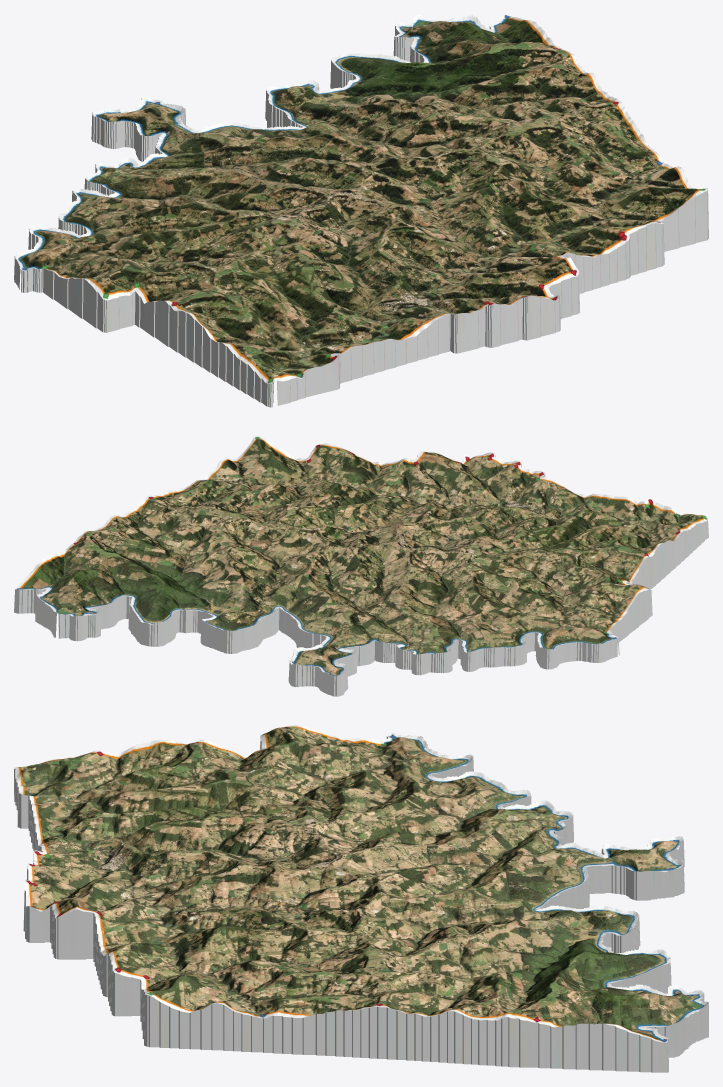
3 renders of one model, top to bottom at view 1: azimuth 30°, elevation 25°; view 2: azimuth 150°, elevation 25°; view 3: azimuth 270°, elevation 25°, orthographic. The views are drawn at different scales.
Size of the model in its own units: 0.9999 by 0.077 by 0.9291.
1 material, 1 textured.
